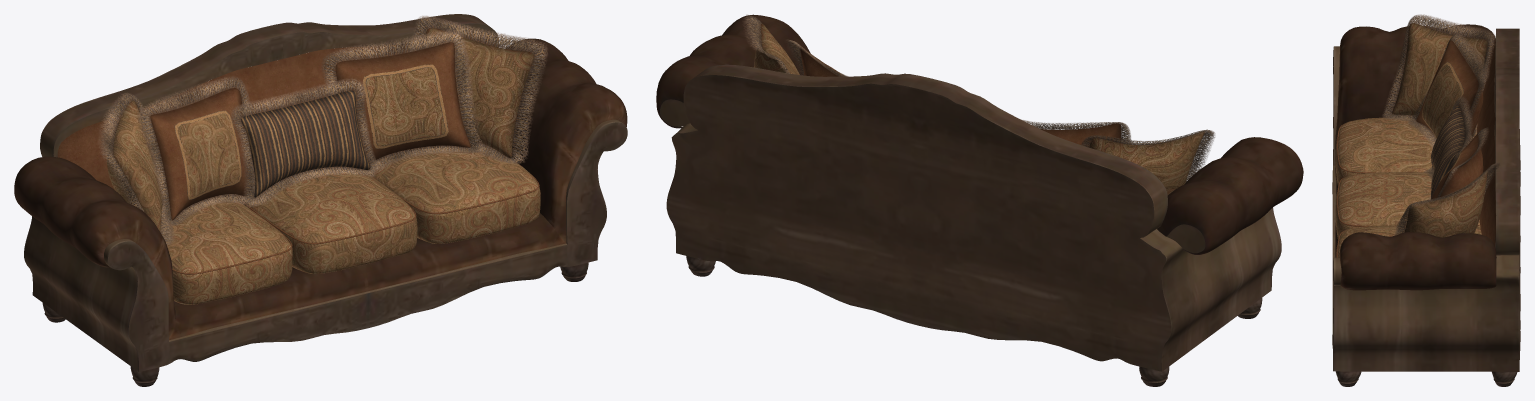
The model's file is leather_sofa.glb.
3 views of the same model, side by side, from view 1: azimuth 30°, elevation 25°; view 2: azimuth 150°, elevation 25°; view 3: azimuth 270°, elevation 25° (orthographic). The views are drawn at different scales.
Parts seen in each view (by area): view 1: Frame, Paisley, Fringe, Brown, Stripes, Frame_Fabric; view 2: Frame, Paisley, Fringe, Brown; view 3: Frame, Paisley, Fringe, Brown, Frame_Fabric, Stripes.
Boxes of the visible parts, x1,y1,x2,y2 form: Frame: (14, 14, 627, 386); Paisley: (107, 27, 540, 304); Fringe: (98, 16, 547, 246); Brown: (150, 42, 539, 274); Stripes: (174, 64, 448, 199); Frame_Fabric: (57, 34, 494, 189); Frame: (656, 14, 1303, 386); Paisley: (754, 23, 1204, 194); Fringe: (743, 14, 1215, 182); Brown: (800, 46, 1121, 147); Frame: (1332, 24, 1520, 386); Paisley: (1335, 23, 1487, 257); Fringe: (1382, 14, 1499, 235); Brown: (1336, 40, 1483, 257); Frame_Fabric: (1477, 39, 1495, 245); Stripes: (1422, 61, 1472, 198).
Bounding box in the file's own units: 2.73 × 1.12 × 0.9231.
6 materials, 6 textured.
